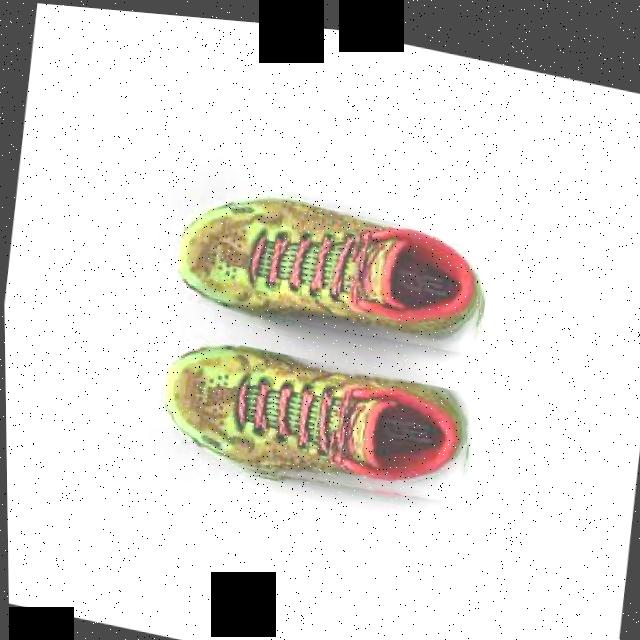shoe: (156, 326, 477, 512), (172, 174, 493, 355)
